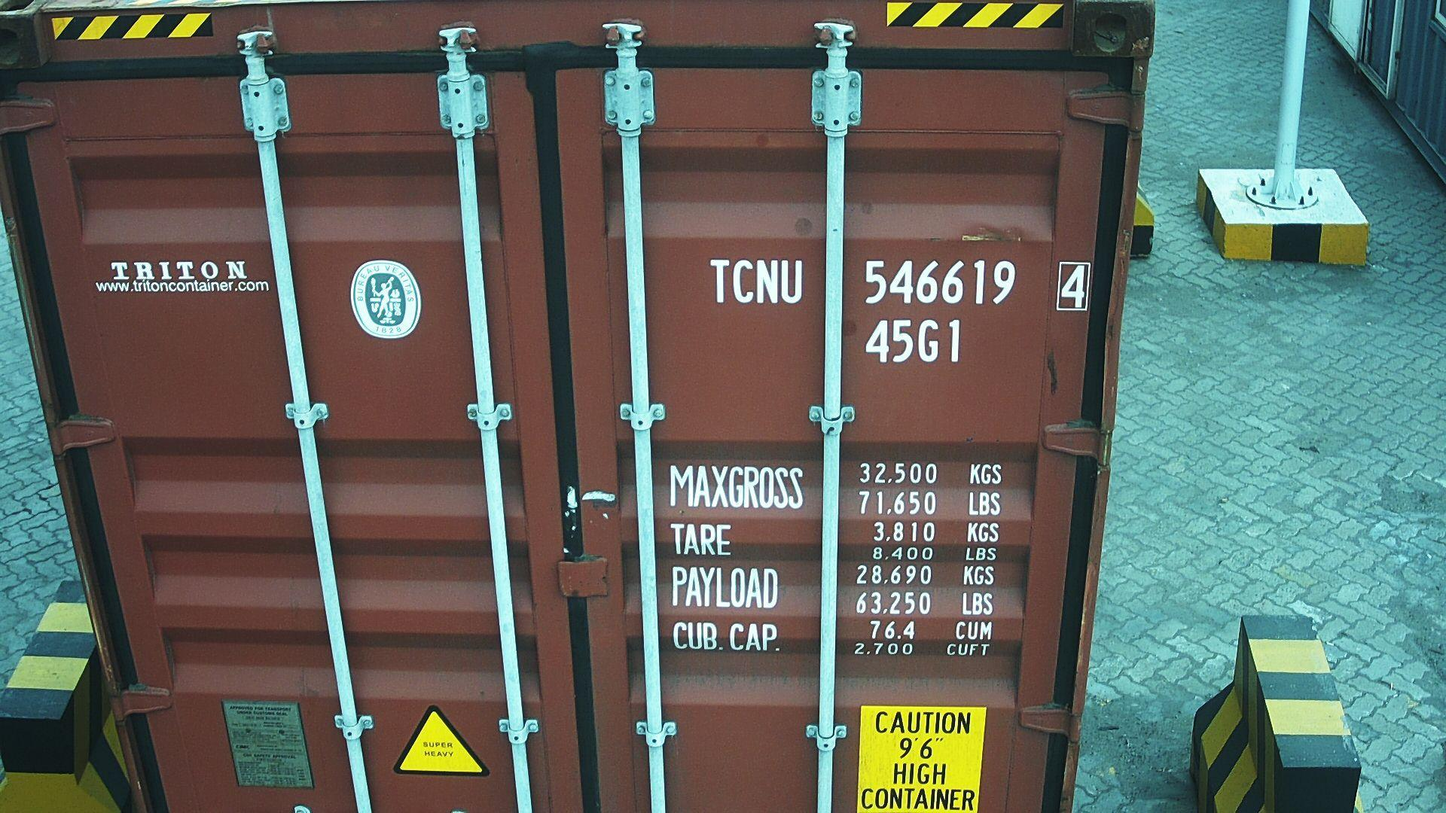container-numbers: (707, 253, 1097, 313), (860, 315, 966, 368)
